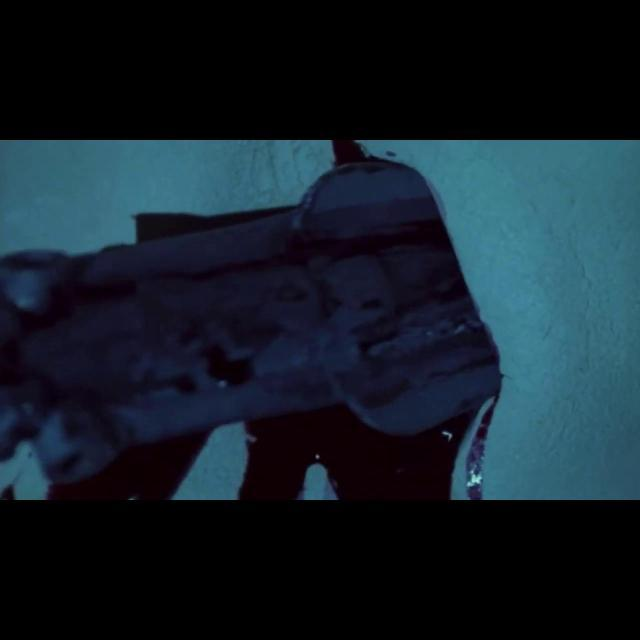blood: (0, 140, 503, 500)
